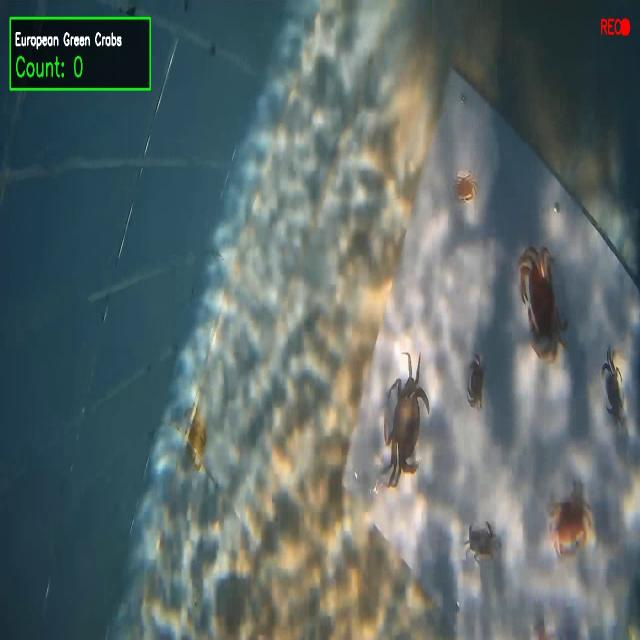European_Green_Crab: (373, 343, 433, 491), (596, 342, 631, 436), (464, 522, 501, 576)
